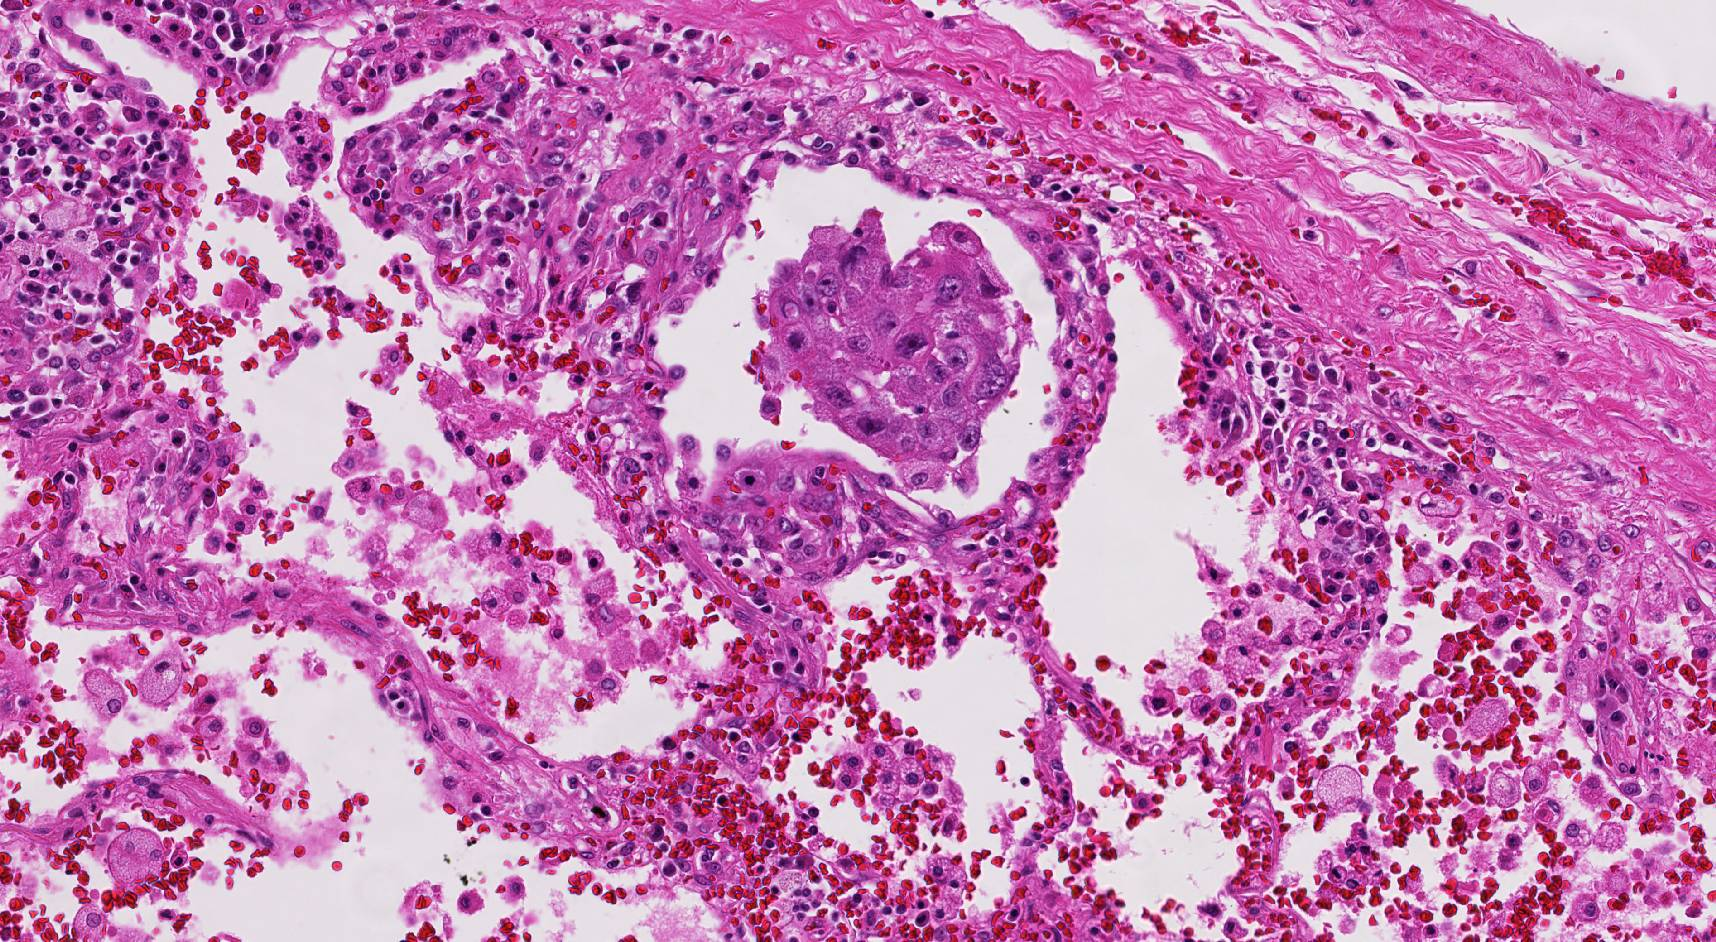stas: (751, 206, 1036, 501)
